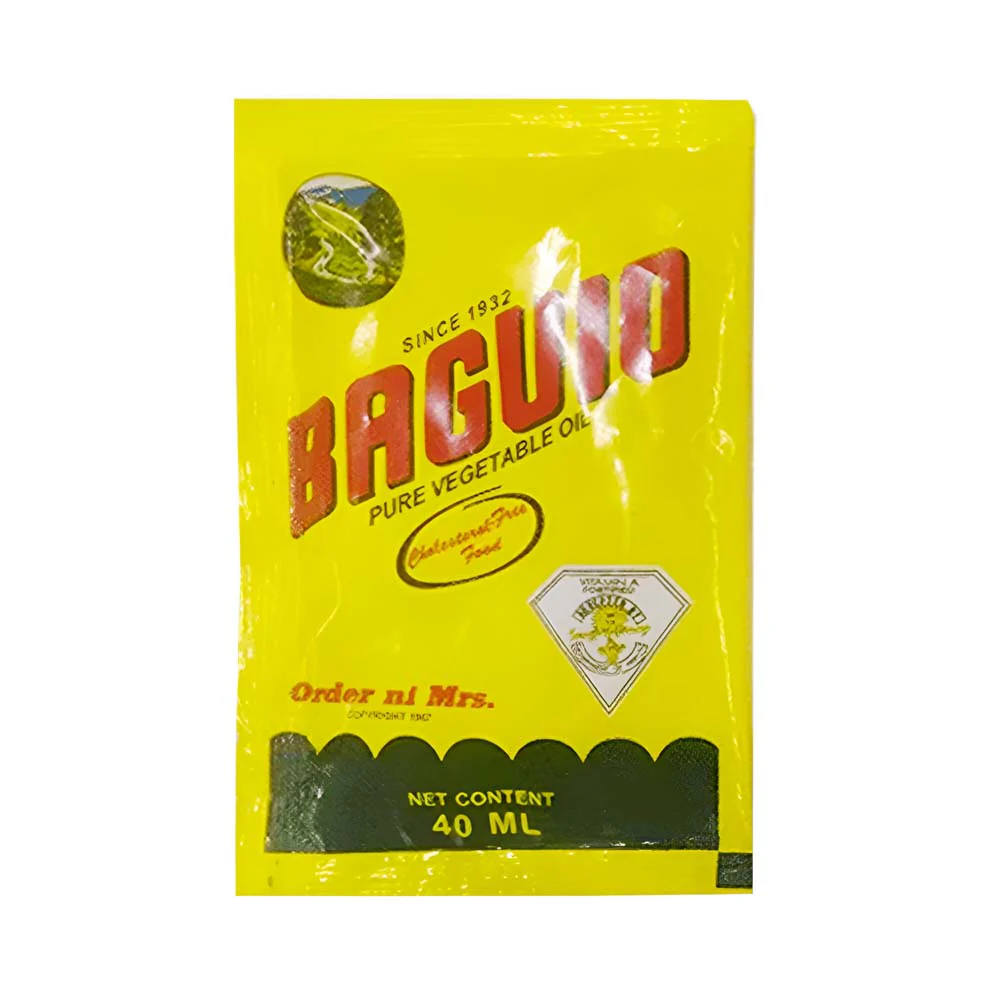non-toxic_waste: (230, 99, 753, 894)
